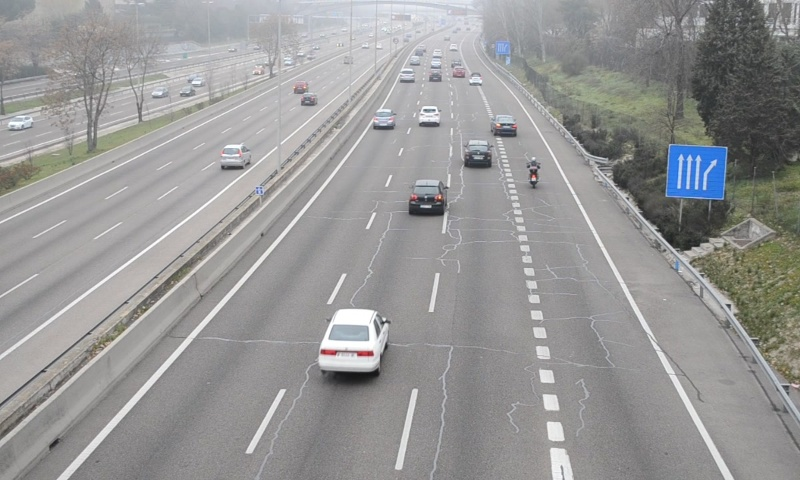car: (317, 308, 390, 373), (407, 180, 446, 214), (464, 140, 493, 167), (492, 114, 518, 138), (372, 108, 396, 130), (418, 106, 441, 125), (398, 66, 413, 82)
motorcycle: (526, 156, 541, 190)
